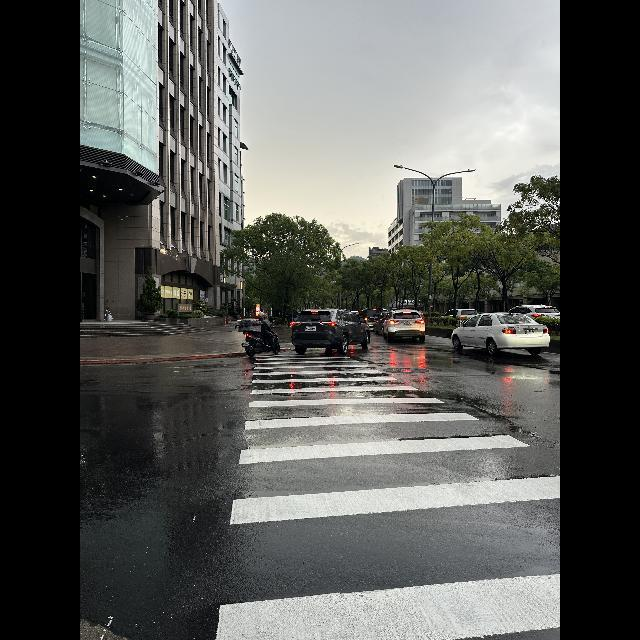sidewalk: (215, 350, 560, 640)
